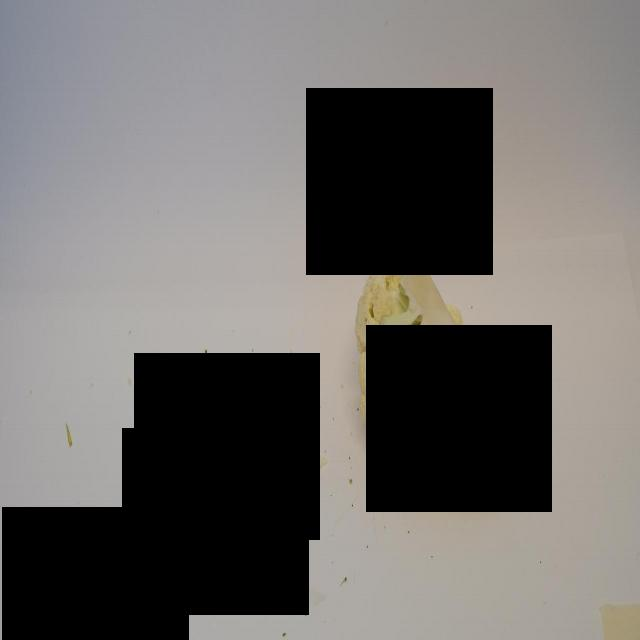cauliflower: (355, 240, 511, 487)
